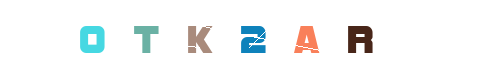2: (212, 0, 292, 80)
A: (266, 0, 346, 80)
K: (200, 0, 280, 80)
O: (77, 0, 157, 80)
R: (319, 0, 399, 80)
T: (170, 0, 250, 80)
